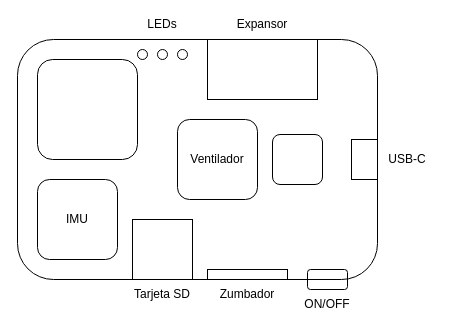
This 455x328 diagram has some shape labels left out. Each missing label, with the box of its shape:
Bateria: (272, 134, 322, 184)
ESP32: (36, 58, 138, 160)
